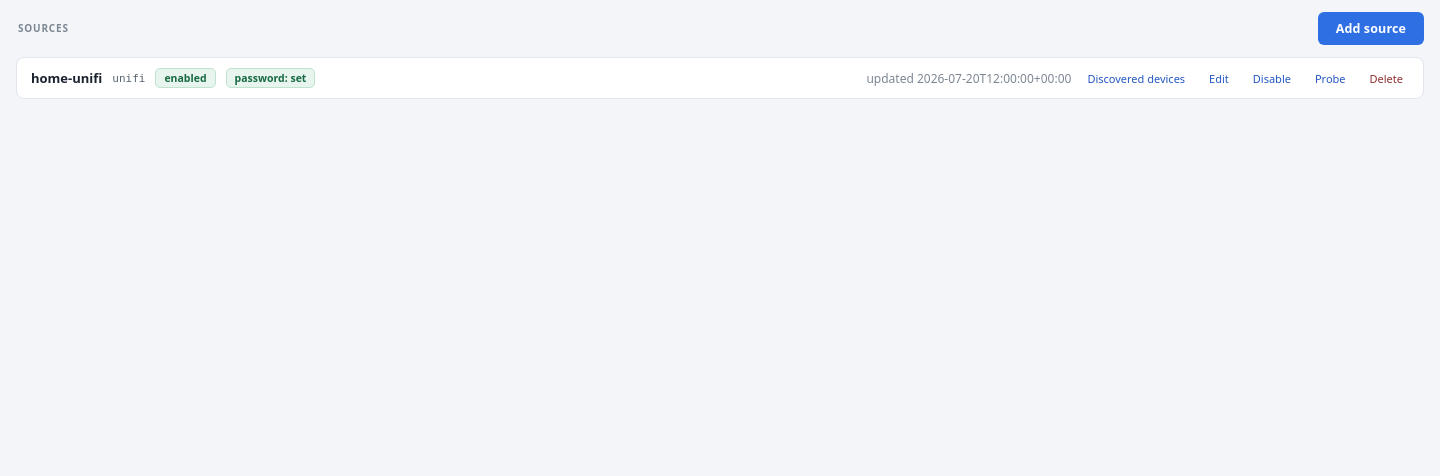
it: SourcesPage: save warnings › shows the routing scope warning an edit returns
Step 1. Click the button with aria-label "Edit home-unifi" → (1219, 78), box [1203,70,1235,86]
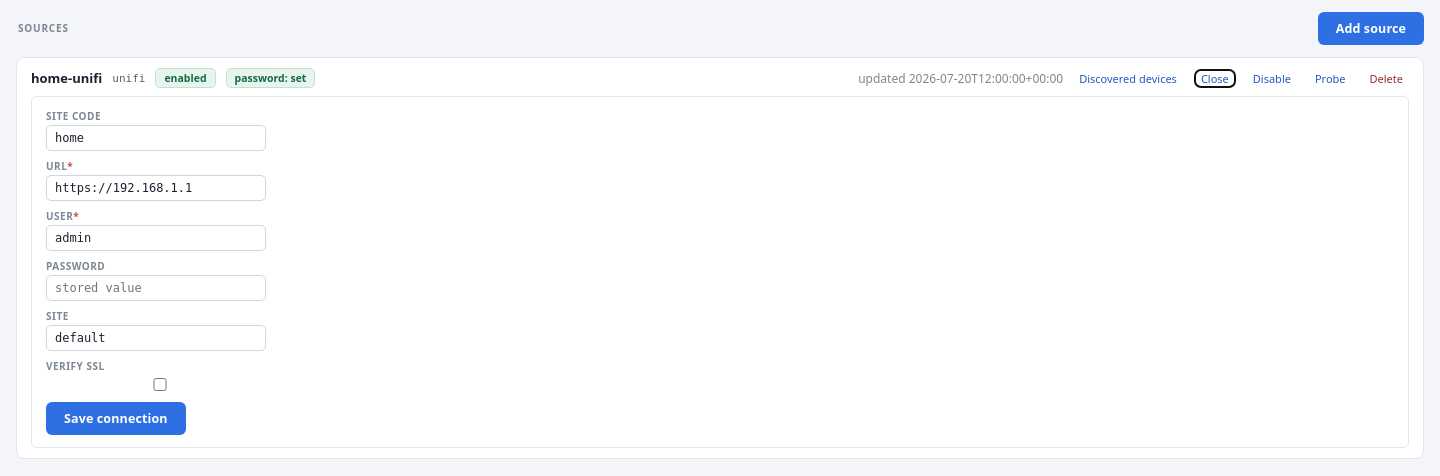
Step 2. Click the button "Save connection" → (116, 418), box [46,402,186,435]
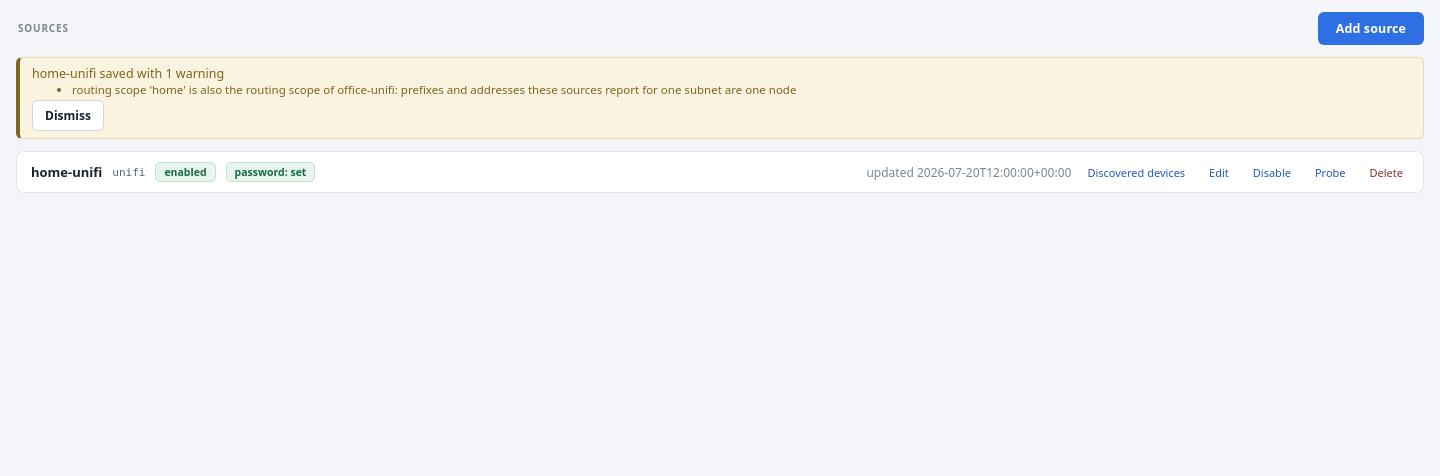
Expected: the list item "routing scope 'home' is also the routing scope of office-unifi: prefixes and addresses these sources report for one subn" is shown, [72,82,796,97]
